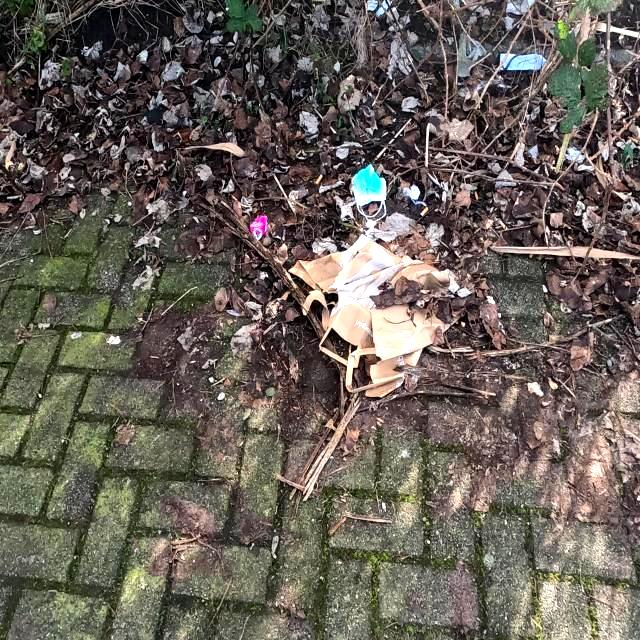Mask: (350, 163, 388, 223)
Paper: (302, 264, 454, 368), (345, 270, 467, 398), (286, 233, 402, 294), (499, 52, 547, 70), (298, 108, 318, 144), (506, 0, 536, 14), (403, 183, 421, 200)
Plastic: (250, 213, 268, 241)
